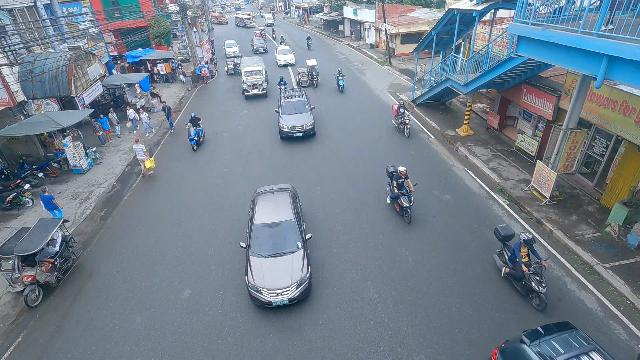car: (236, 182, 313, 311), (274, 87, 317, 141), (275, 44, 298, 67), (250, 37, 268, 55), (224, 40, 241, 57)
jeepney: (241, 56, 270, 101), (234, 12, 256, 28), (210, 12, 228, 25)
motorcycle: (492, 223, 552, 312), (384, 165, 418, 225), (391, 101, 414, 140), (185, 113, 206, 152), (334, 68, 346, 93), (277, 75, 288, 93), (305, 33, 313, 50), (279, 35, 286, 45), (271, 28, 276, 39)
van: (262, 13, 274, 27)
